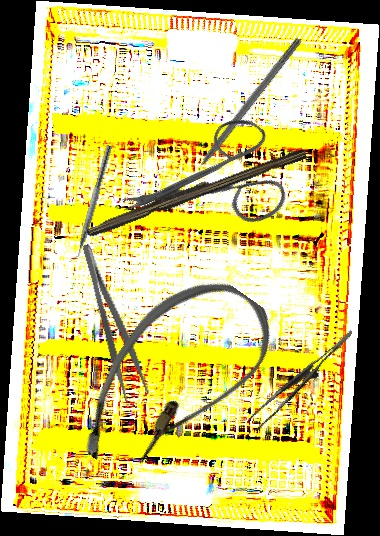Cannula: (61, 254, 288, 506)
Chopper: (66, 142, 113, 266)
Dressing Forceps: (78, 239, 151, 402)
Hook Surgical: (182, 35, 303, 187)
Iris Scissors: (115, 85, 313, 286)
Scalpel Handle: (84, 141, 308, 242)
Tissue Forceps: (239, 329, 368, 432)
